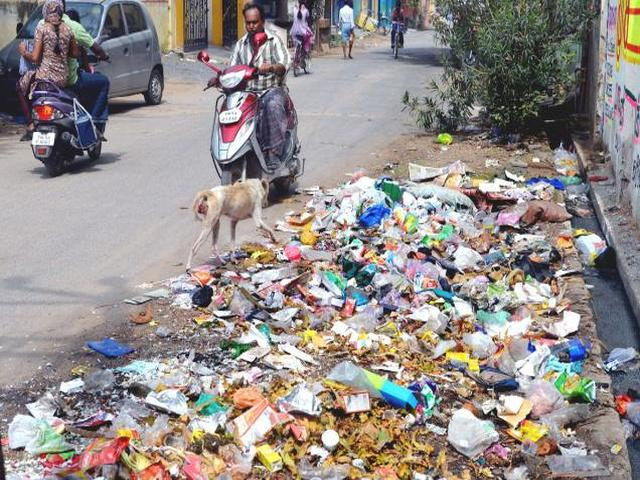garbage: (79, 360, 549, 470), (332, 191, 549, 358), (207, 265, 336, 351)
